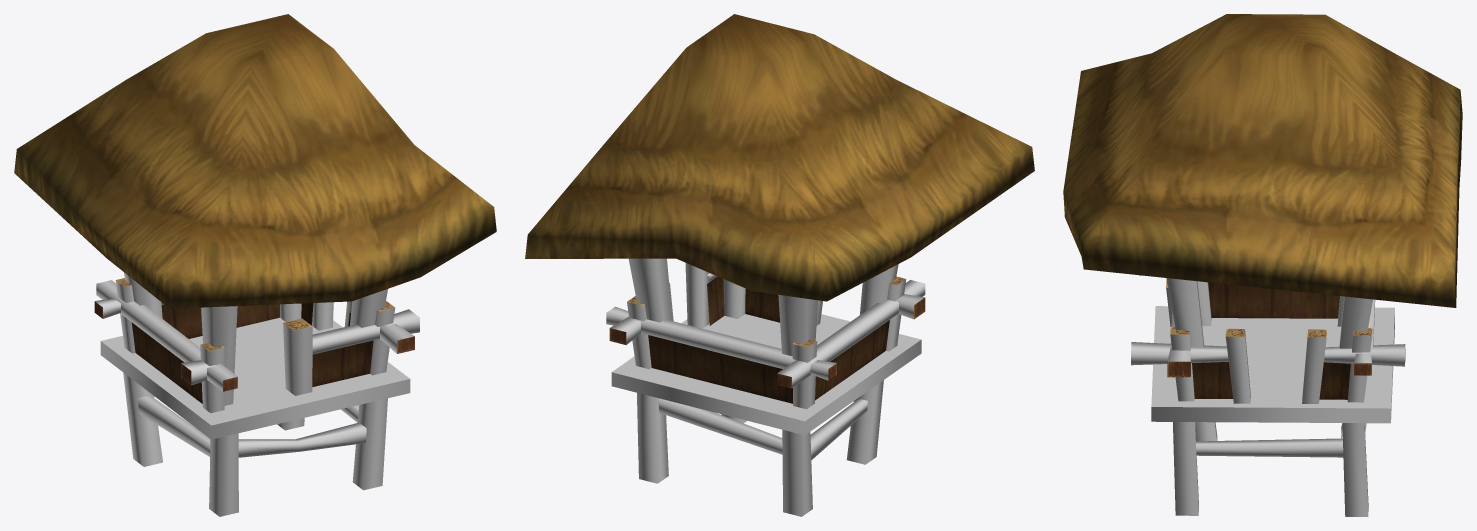
The model's file is environment_Building_caowu_006_a.FBX.
The picture shows the model from 3 angles, left to right: view 1: azimuth 30°, elevation 25°; view 2: azimuth 150°, elevation 25°; view 3: azimuth 270°, elevation 25°; orthographic projection. The views are drawn at different scales.
Parts seen in each view (by area): view 1: environment_Building_caowu_006_f, environment_Building_caowu_006_e, environment_Building_caowu_006_d, environment_Building_caowu_006_a, environment_Building_caowu_006_b, environment_Building_caowu_006_g; view 2: environment_Building_caowu_006_f, environment_Building_caowu_006_e, environment_Building_caowu_006_a, environment_Building_caowu_006_d, environment_Building_caowu_006_b, environment_Building_caowu_006_g; view 3: environment_Building_caowu_006_f, environment_Building_caowu_006_e, environment_Building_caowu_006_d, environment_Building_caowu_006_a, environment_Building_caowu_006_b, environment_Building_caowu_006_g.
Part boxes in pixels (box(x1,y1,x2,y2)): environment_Building_caowu_006_f: box(14, 14, 496, 308); environment_Building_caowu_006_e: box(95, 272, 419, 516); environment_Building_caowu_006_d: box(101, 317, 409, 425); environment_Building_caowu_006_a: box(131, 303, 373, 403); environment_Building_caowu_006_b: box(100, 341, 410, 439); environment_Building_caowu_006_g: box(94, 278, 414, 391); environment_Building_caowu_006_f: box(525, 14, 1034, 301); environment_Building_caowu_006_e: box(606, 258, 925, 516); environment_Building_caowu_006_a: box(648, 276, 889, 403); environment_Building_caowu_006_d: box(612, 314, 920, 421); environment_Building_caowu_006_b: box(611, 339, 921, 435); environment_Building_caowu_006_g: box(609, 276, 925, 388); environment_Building_caowu_006_f: box(1063, 14, 1462, 307); environment_Building_caowu_006_e: box(1131, 275, 1405, 516); environment_Building_caowu_006_d: box(1151, 306, 1394, 408); environment_Building_caowu_006_a: box(1192, 282, 1350, 399); environment_Building_caowu_006_b: box(1151, 315, 1394, 423); environment_Building_caowu_006_g: box(1166, 278, 1405, 377).
Size of the model in its own units: 454 by 581 by 447.
